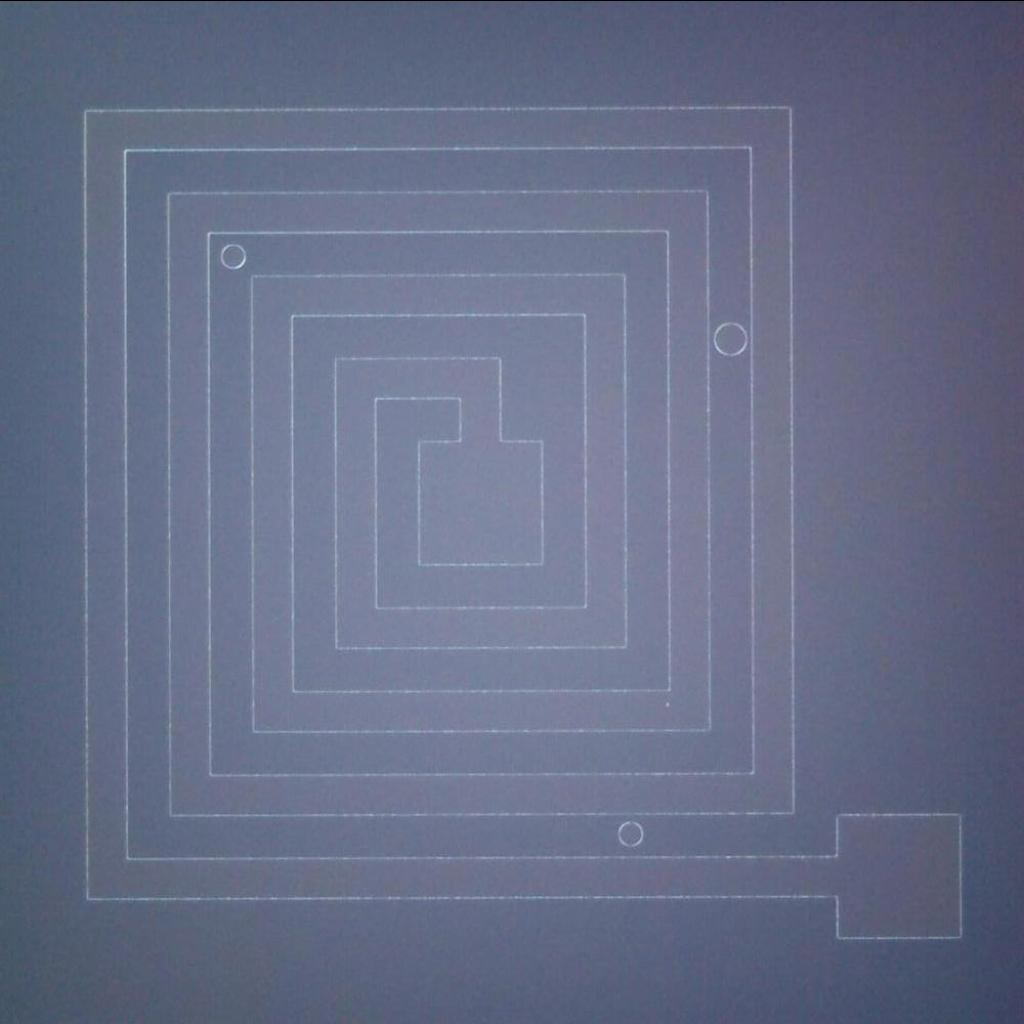circle: (710, 318, 749, 360), (216, 239, 252, 274), (618, 816, 647, 848)
